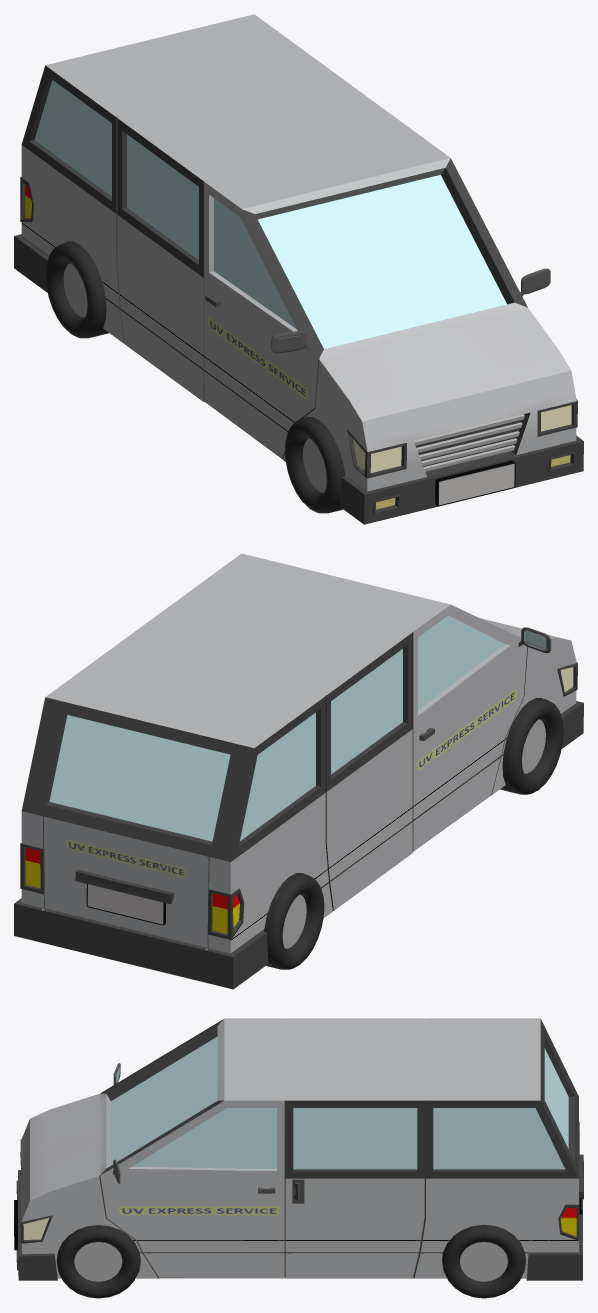
File: PUV_FIXED.fbx
3 renders of one model, top to bottom at view 1: azimuth 30°, elevation 25°; view 2: azimuth 150°, elevation 25°; view 3: azimuth 270°, elevation 25°, orthographic. The views are drawn at different scales.
Visible parts, largest first — view 1: pCube8, polySurface69, polySurface67, pasted__Liscense_Plate11, pCube36; view 2: pCube8, polySurface67, polySurface69, pasted__Liscense_Plate12, pCube36; view 3: pCube8, polySurface68, polySurface66.
Boxes of the visible parts, bbox=[...] form: pCube8: bbox=[14, 14, 583, 524]; polySurface69: bbox=[45, 241, 108, 338]; polySurface67: bbox=[285, 417, 344, 513]; pasted__Liscense_Plate11: bbox=[435, 460, 515, 506]; pCube36: bbox=[271, 331, 310, 353]; pCube8: bbox=[14, 553, 583, 989]; polySurface67: bbox=[500, 698, 563, 794]; polySurface69: bbox=[264, 873, 324, 969]; pasted__Liscense_Plate12: bbox=[86, 884, 165, 925]; pCube36: bbox=[518, 627, 551, 652]; pCube8: bbox=[16, 1018, 583, 1280]; polySurface68: bbox=[442, 1224, 525, 1298]; polySurface66: bbox=[57, 1225, 140, 1298].
Bounding box in the file's own units: 6.39 × 5.32 × 14.06.
7 materials, 4 textured.
